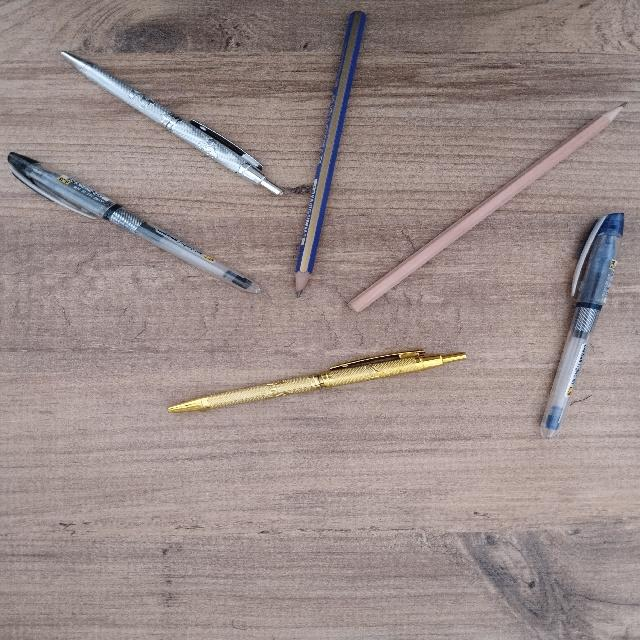pen: (8, 152, 259, 292), (541, 213, 623, 437)
pencil: (349, 103, 626, 312), (295, 11, 365, 296)
signature pen: (61, 51, 282, 194), (168, 350, 465, 412)
